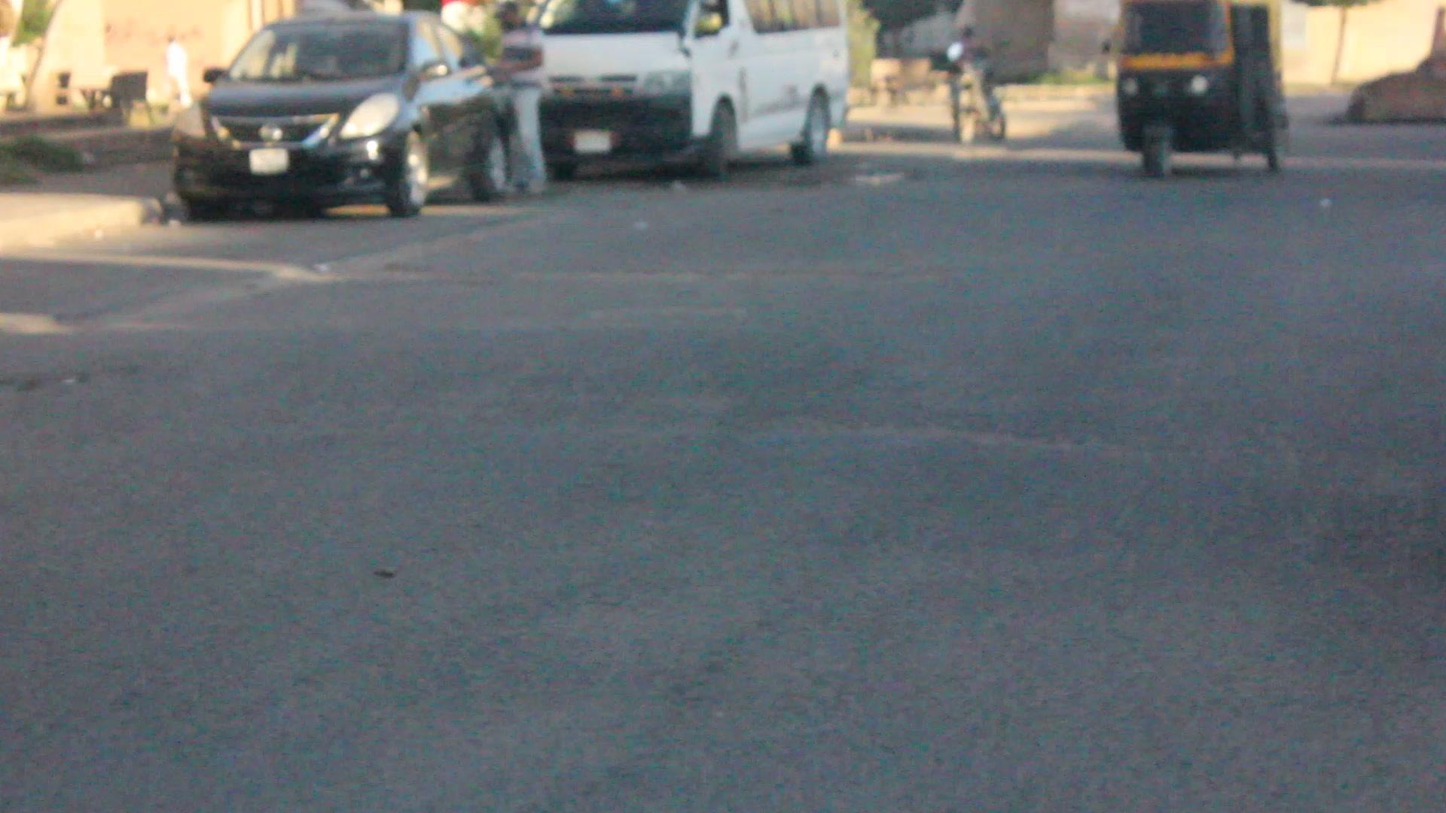Pothole: (785, 405, 1175, 472), (313, 256, 940, 295), (21, 359, 134, 406)
